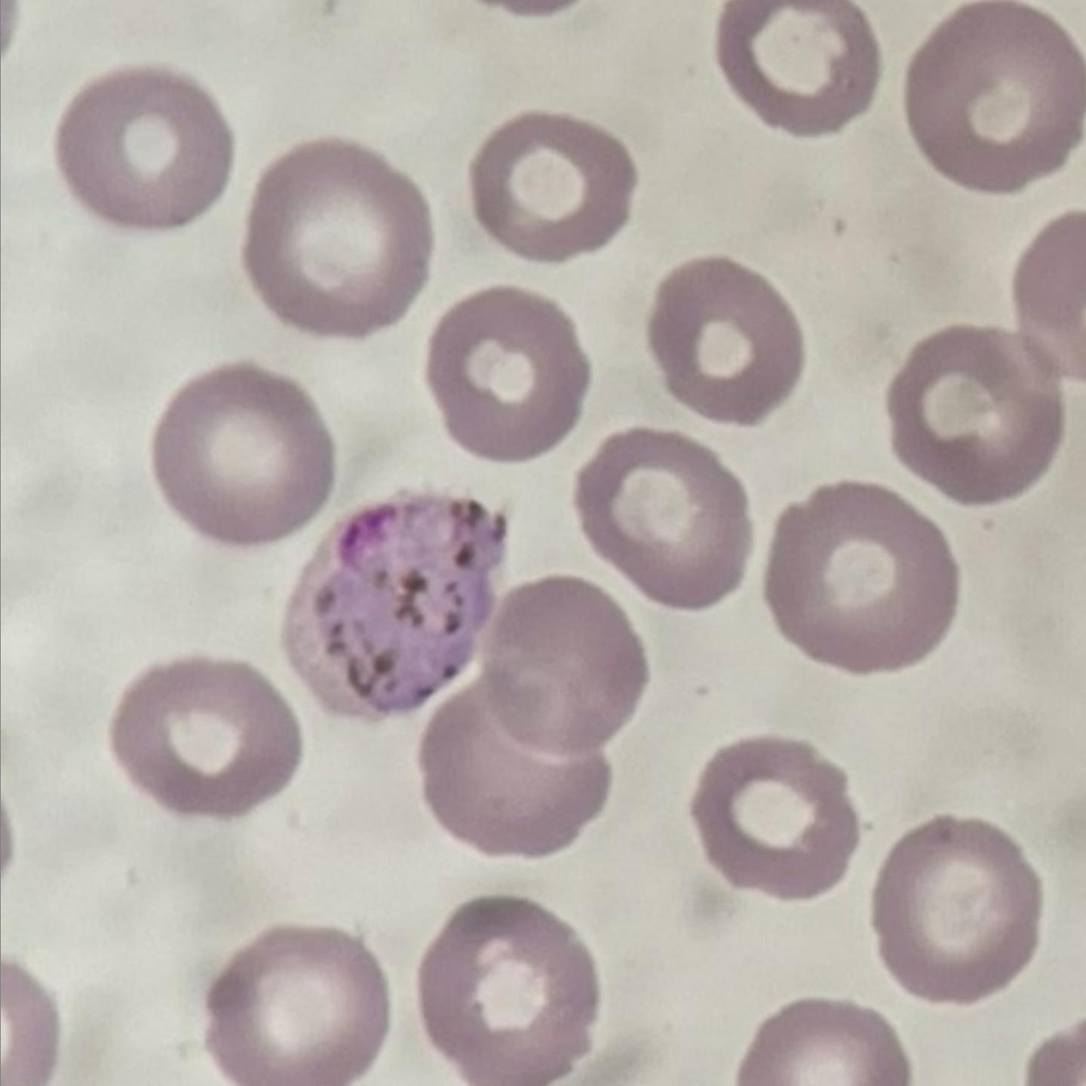Infected: (279, 494, 504, 720)
Uninfected: (767, 478, 955, 677), (244, 142, 426, 338), (417, 896, 598, 1086), (910, 0, 1086, 195), (151, 365, 339, 546), (573, 423, 749, 611), (890, 320, 1066, 504), (420, 685, 607, 858), (196, 921, 385, 1086), (108, 654, 300, 816), (872, 815, 1044, 994), (478, 582, 649, 756), (55, 66, 231, 231), (421, 282, 588, 455), (691, 740, 861, 903), (644, 257, 804, 425), (468, 114, 632, 266), (716, 0, 880, 137)
